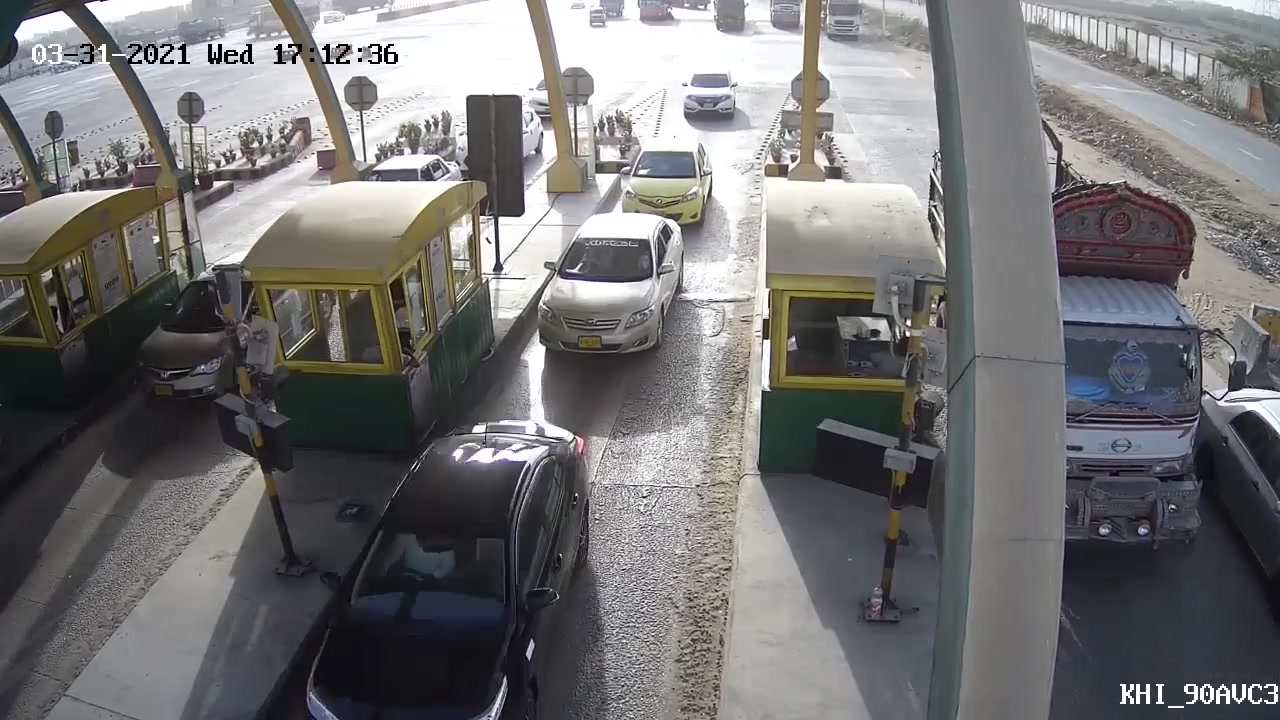F1: (514, 214, 689, 387), (622, 141, 716, 226)
